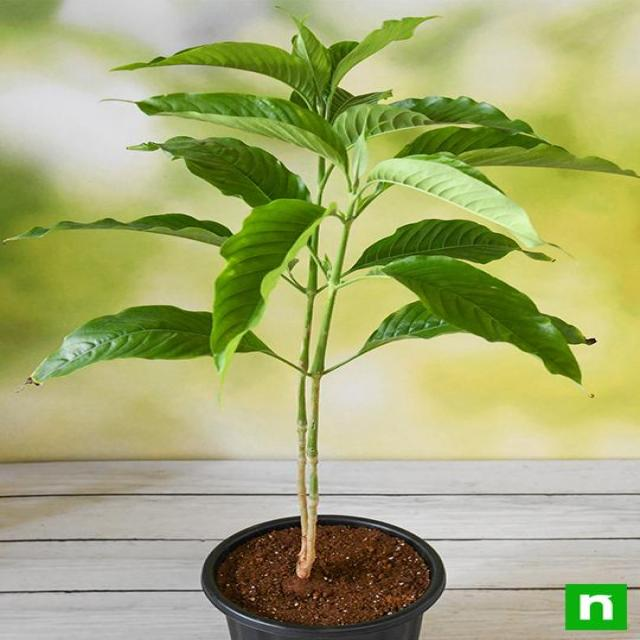Malabar Nut: (60, 42, 574, 563)
